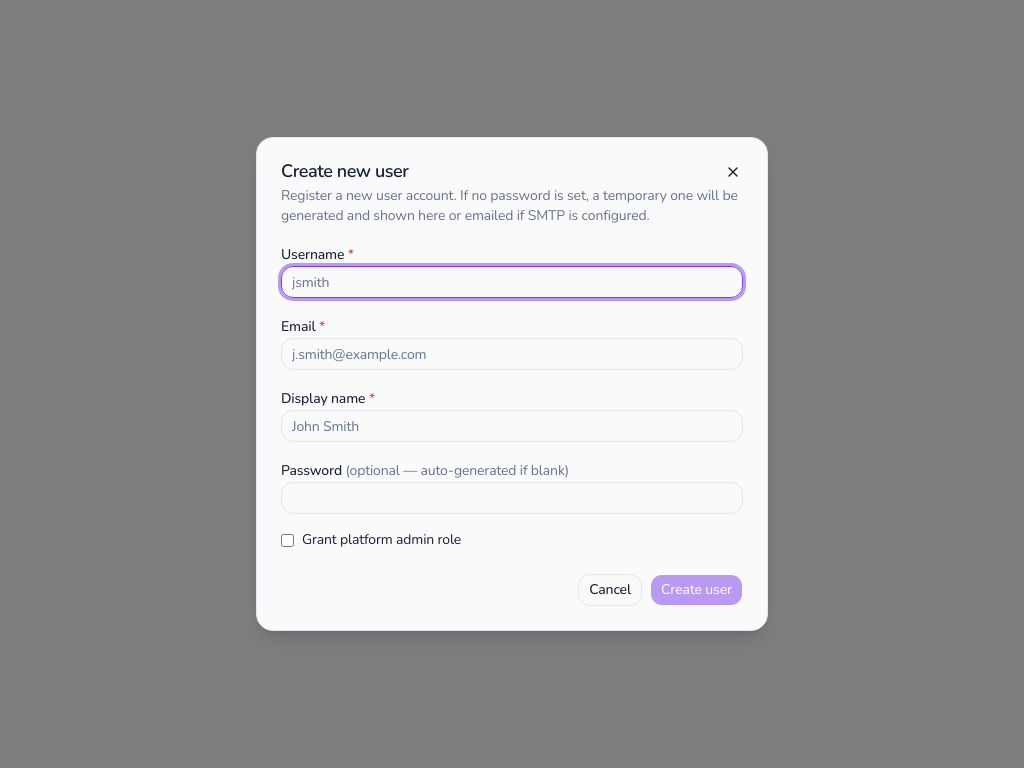
CreateUserDialog › shows credentials panel when response includes tempPassword
This screenshot has width=1024, height=768.
Type "alice" into the field labelled "Username *" at (512, 282), box x1=281 y1=266 x2=743 y2=298
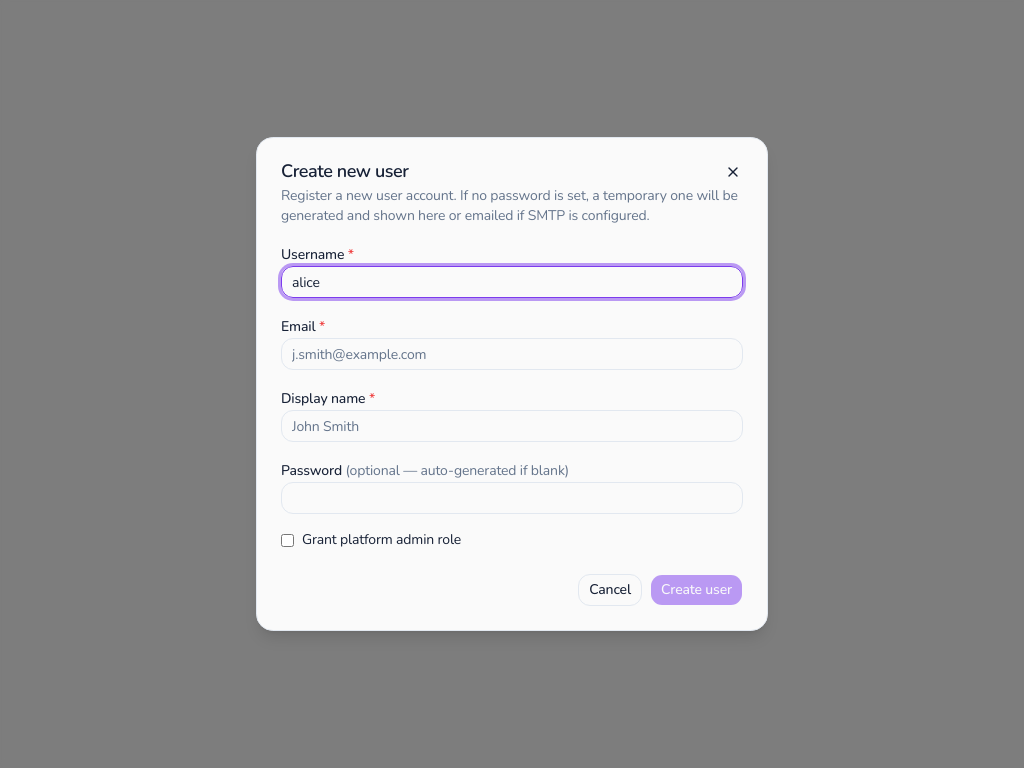
Type "alice@test.com" into the field labelled "Email *" at (512, 354), box x1=281 y1=338 x2=743 y2=370
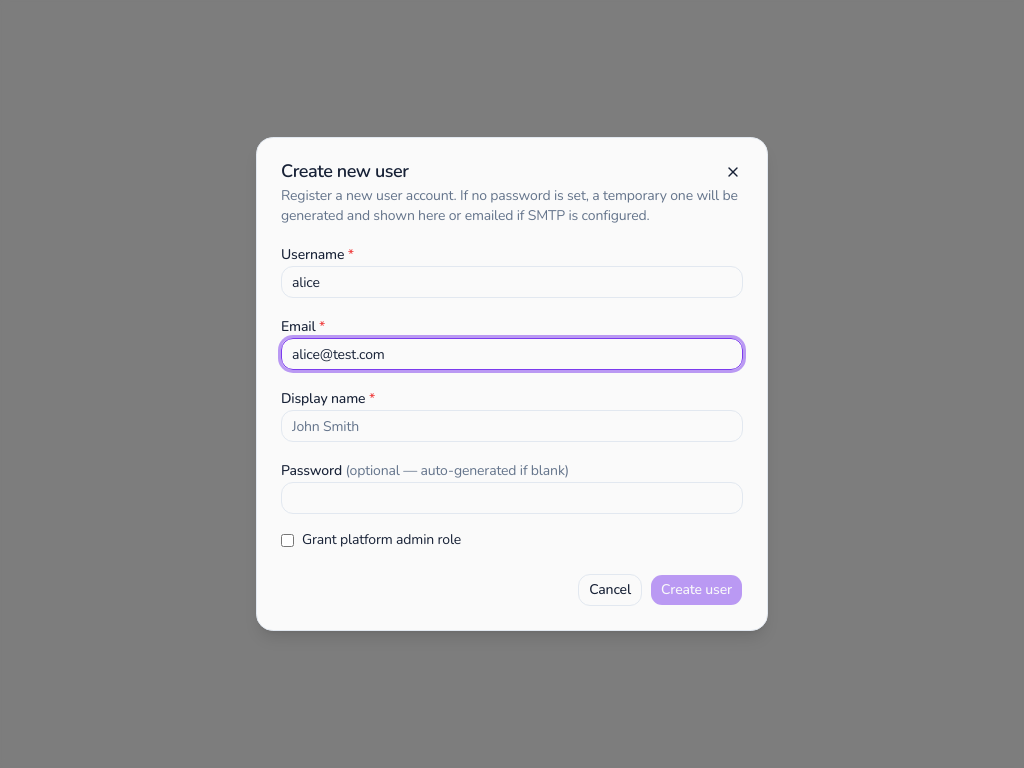
Type "Alice" into the field labelled "Display name *" at (512, 426), box x1=281 y1=410 x2=743 y2=442
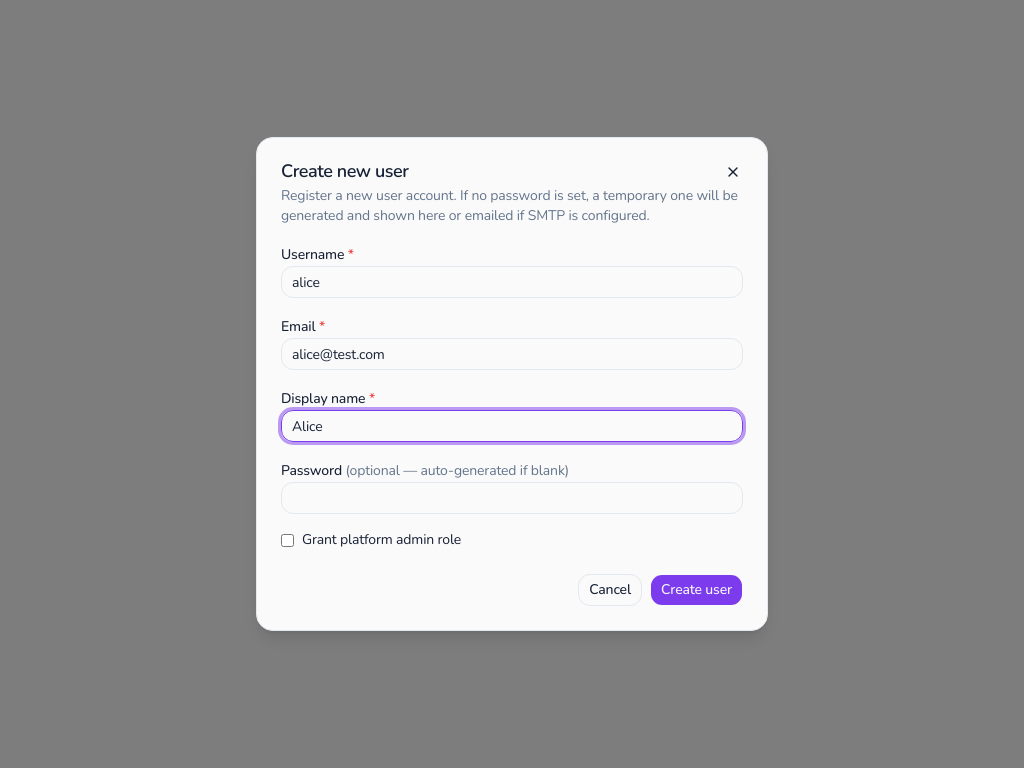
Click the button "Create user" at (696, 590), box x1=650 y1=574 x2=743 y2=606
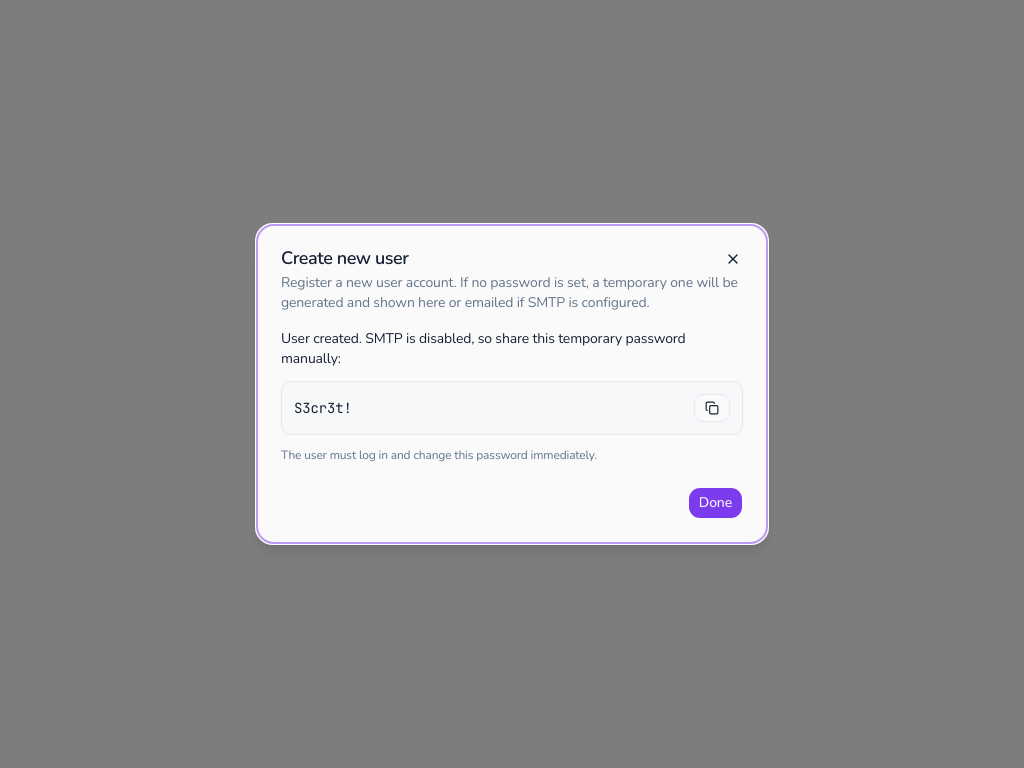
Expected: the text "S3cr3t!" is shown, x1=294 y1=399 x2=352 y2=417
Expected: the label labelled "Username" is gone
Expected: the button "Done" is shown, x1=688 y1=487 x2=743 y2=519
